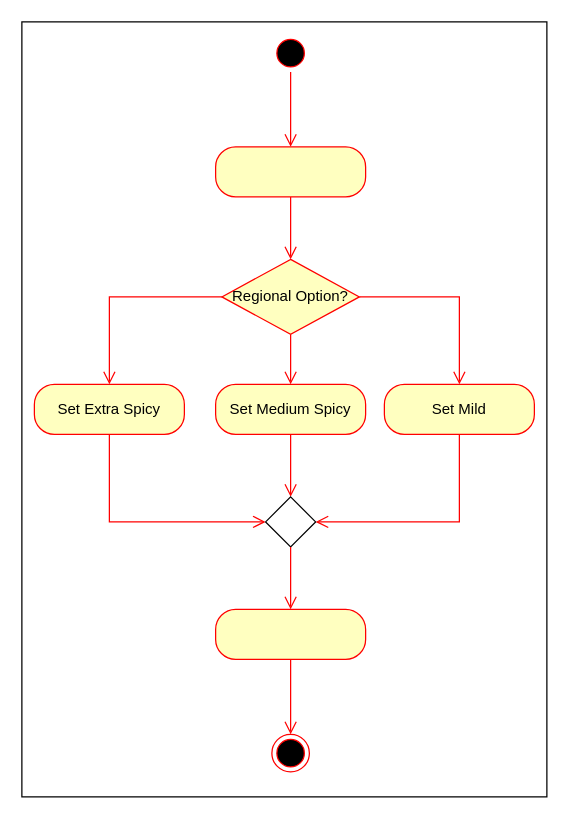
Some shapes in this 569 by 819 pixel diagram are drawn without their labels. Here are the shapes that lost their labels. From the top down, the centre of each, then its label:
At pixel 290 171: "Select Menu Item".
At pixel 290 633: "Confirm Selection".
